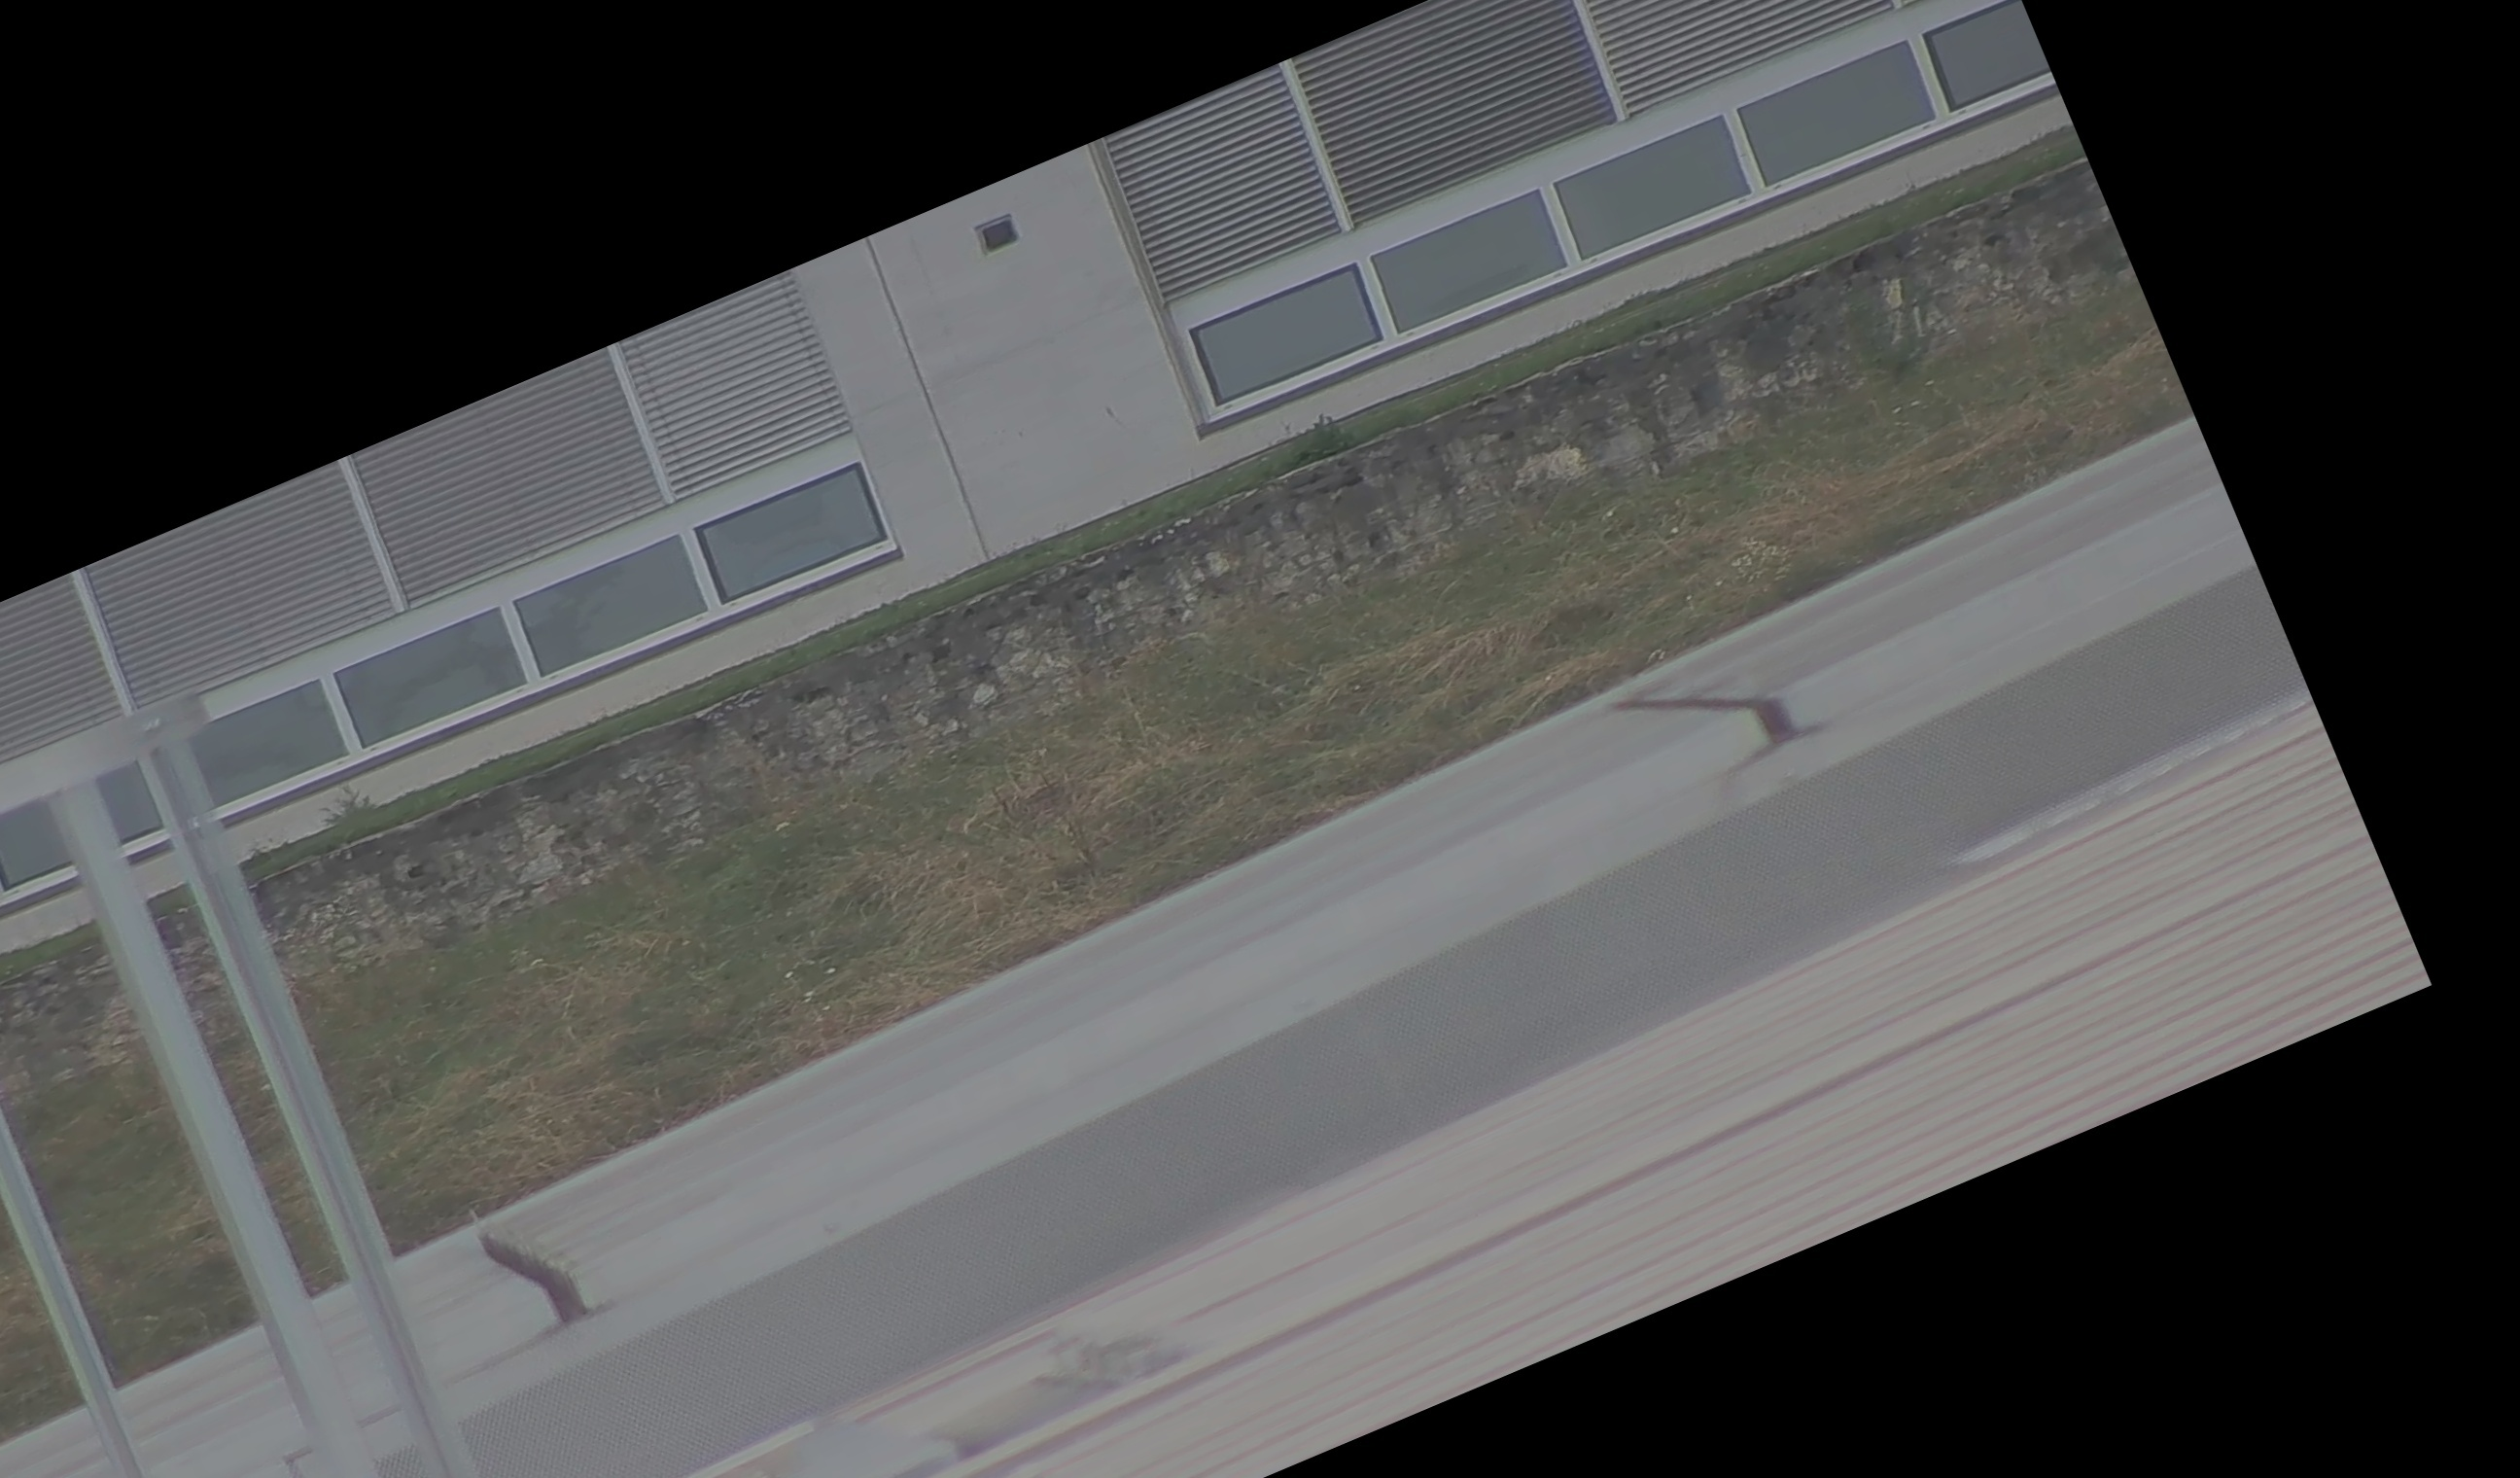Other: (445, 1177, 617, 1367)
